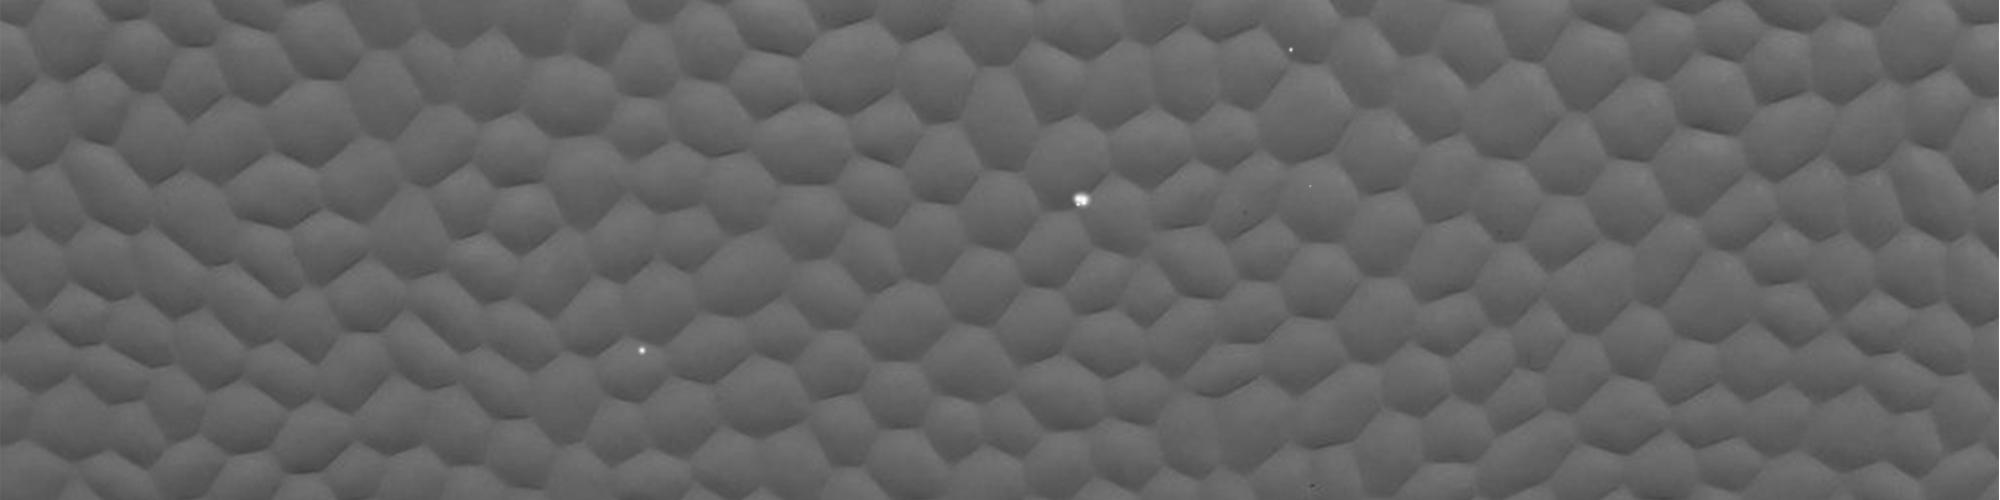Particles: (1071, 189, 1092, 210), (635, 344, 649, 358), (1304, 180, 1319, 193), (1283, 46, 1298, 56)
